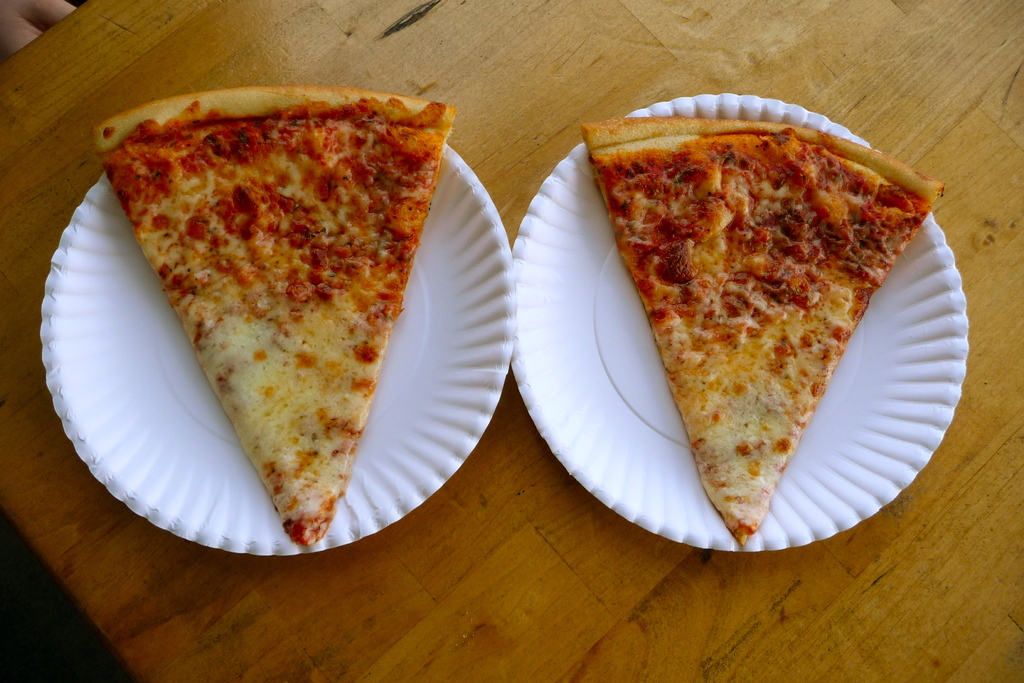Pizza: (83, 65, 440, 522), (579, 107, 943, 555)
